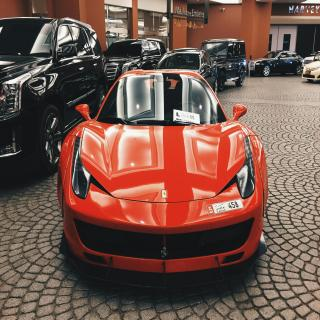Normal_vehicle: (59, 69, 267, 290), (0, 16, 101, 173), (99, 36, 164, 90), (160, 46, 218, 101), (201, 38, 248, 88), (253, 48, 301, 77), (301, 50, 320, 79)
